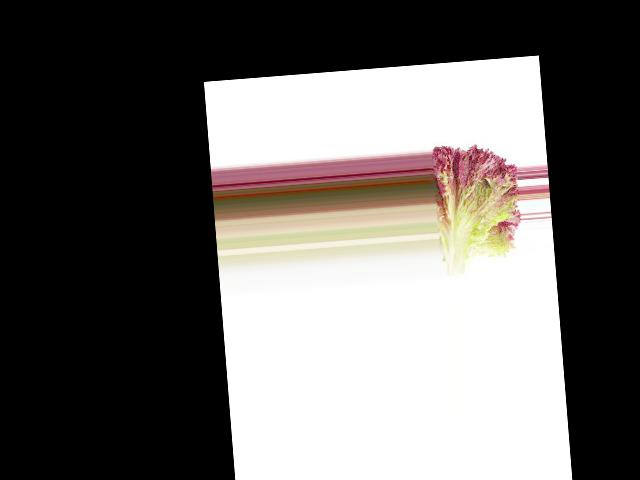lettuce: (430, 158, 524, 275)
